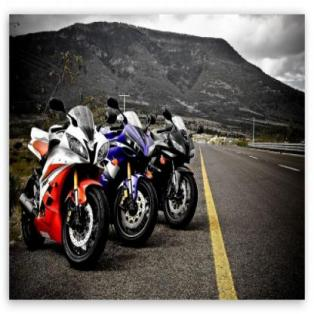Motocicleta: (24, 111, 108, 271), (106, 100, 162, 248), (151, 95, 201, 233)
